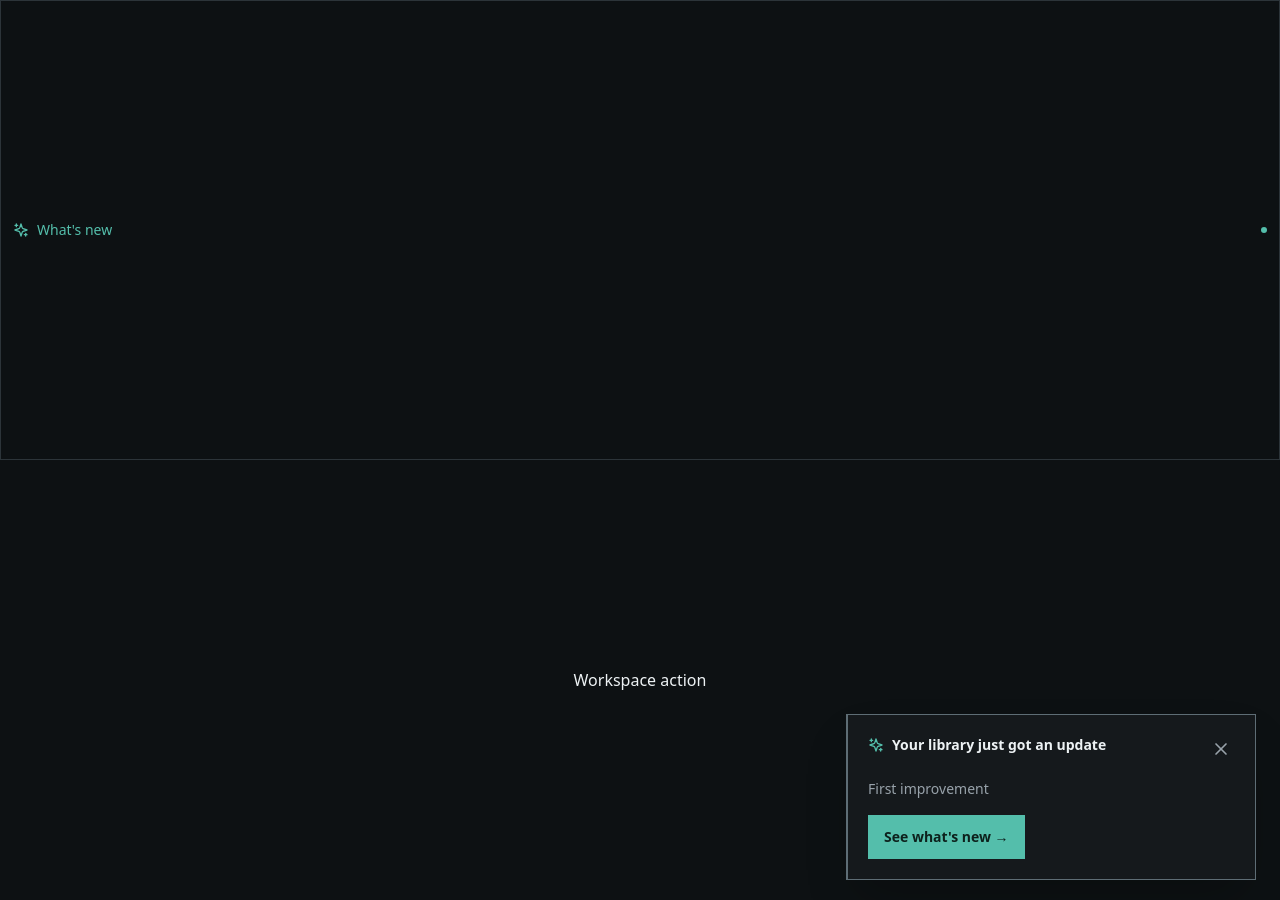
Test case: update hints › shows the release version in the panel header
Check: the message "Your library just got an update First improvement See what's new →" is shown, box top-left (846, 714), bottom-right (1256, 880)
Click the button "What's new" at {"x": 640, "y": 230}, box top-left (0, 0), bottom-right (1279, 460)
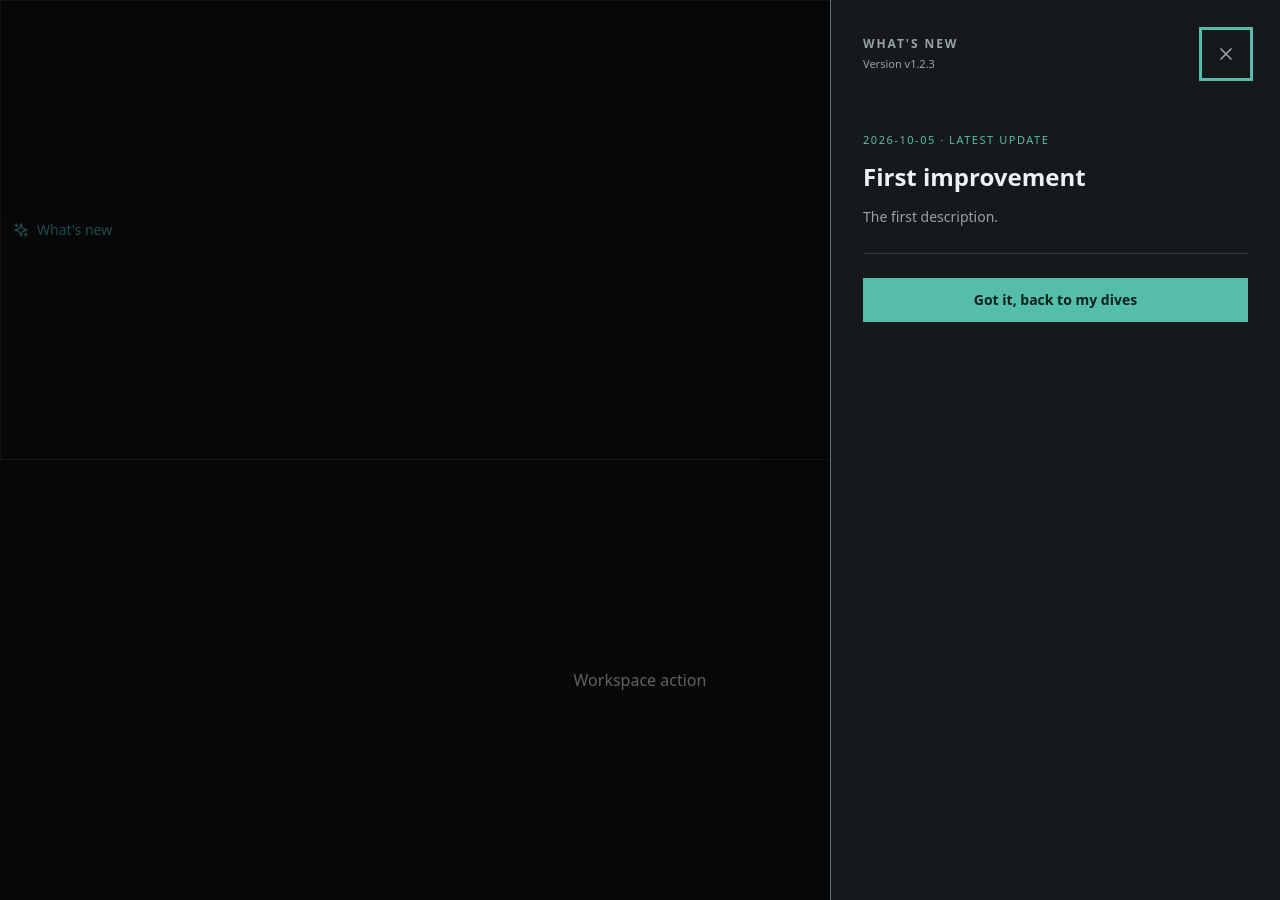
Check: the dialog shows "Version v1.2.3", box top-left (863, 56), bottom-right (935, 71)
